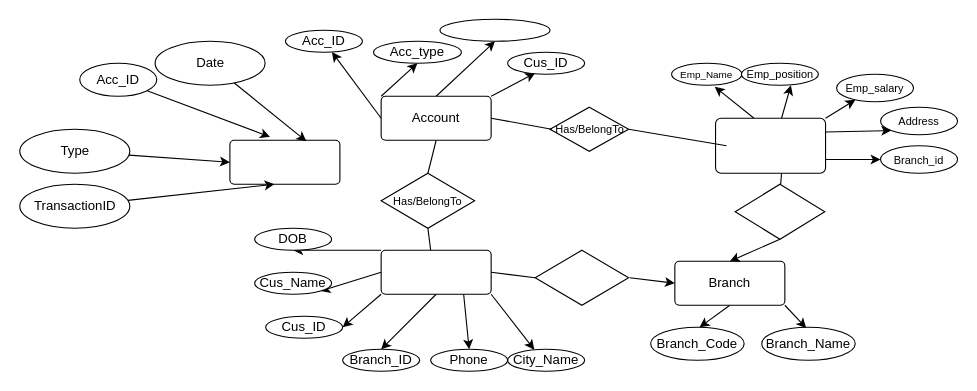
The diagram is 977 pixels wide and 391 high, and some of its shapes have lost their labels. The shapes that lost their labels are listed below. From the top down, each one's centre as x and y in pixels, then its label:
At pixel 494 29: "Acc_balance".
At pixel 284 161: "Transactions".
At pixel 770 145: "Employee".
At pixel 779 211: "Works For/Has".
At pixel 435 271: "Customer".
At pixel 581 277: "BelongTo".
